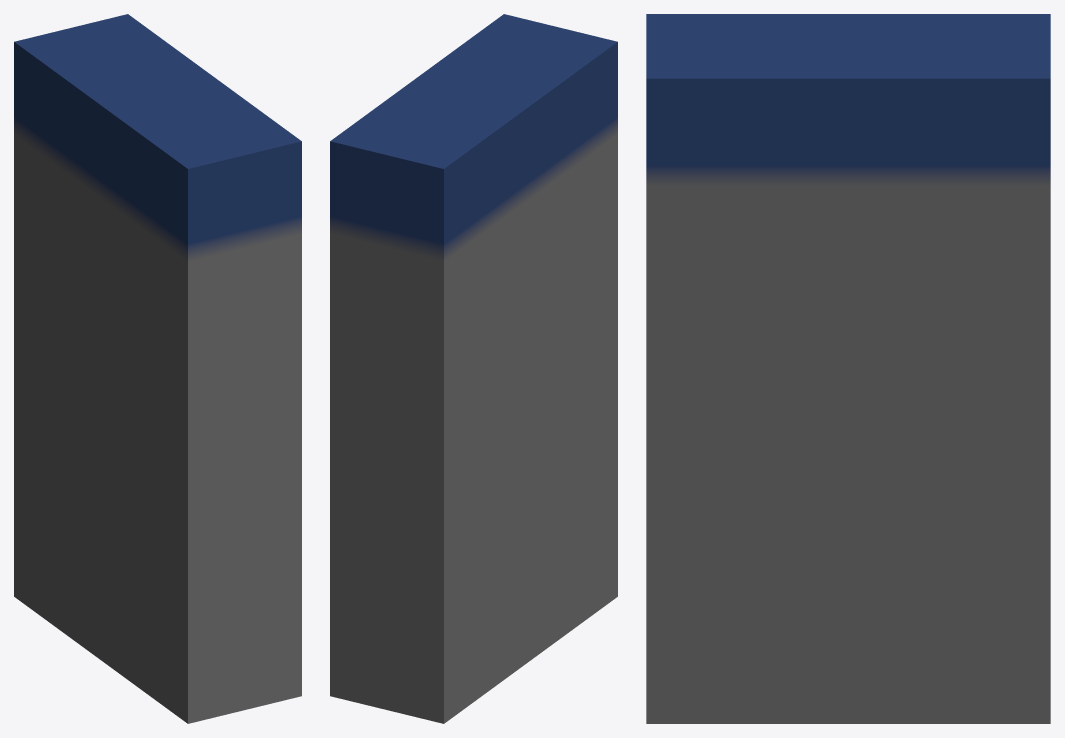
The model's file is Itr_Obj_Book2_05.FBX.
3 renders of one model, left to right at view 1: azimuth 30°, elevation 25°; view 2: azimuth 150°, elevation 25°; view 3: azimuth 270°, elevation 25°, orthographic. The views are drawn at different scales.
Visible parts, largest first — view 1: Itr_Obj_Book2_05; view 2: Itr_Obj_Book2_05; view 3: Itr_Obj_Book2_05.
Part boxes in pixels (x1,y1,x2,y2): Itr_Obj_Book2_05: (14,14,301,723); Itr_Obj_Book2_05: (330,14,617,723); Itr_Obj_Book2_05: (646,14,1050,723).
Size of the model in its own units: 2.14 by 9.98 by 5.67.
